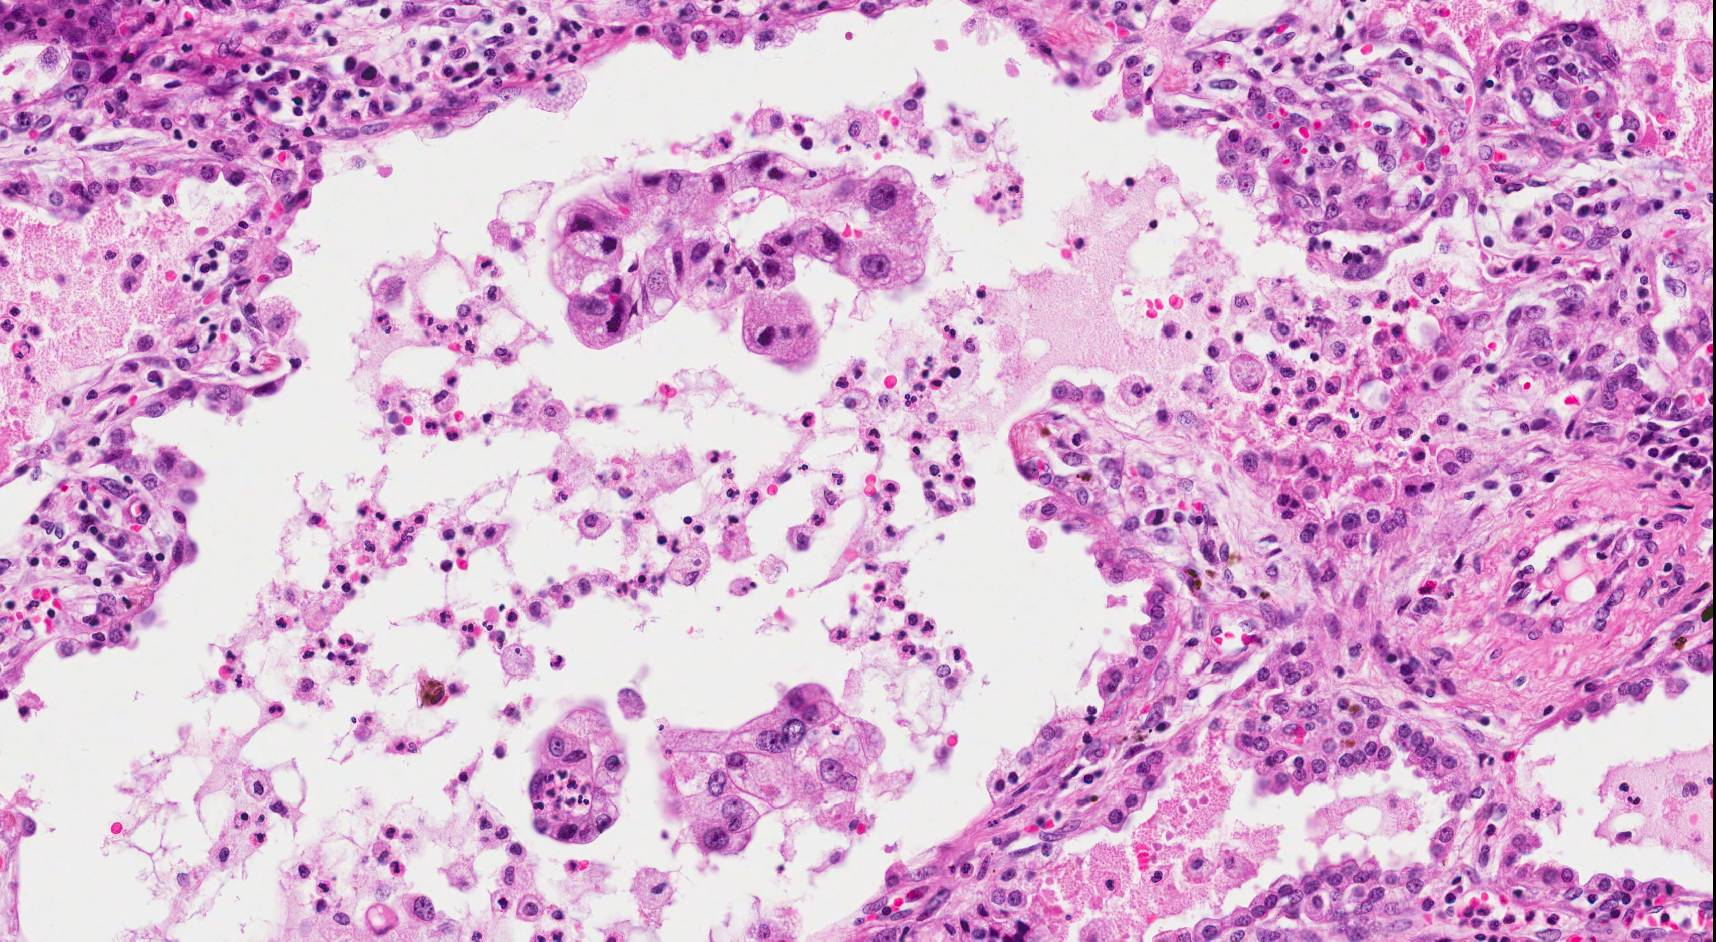stas: (543, 149, 934, 369), (653, 679, 883, 857), (524, 701, 630, 845)
